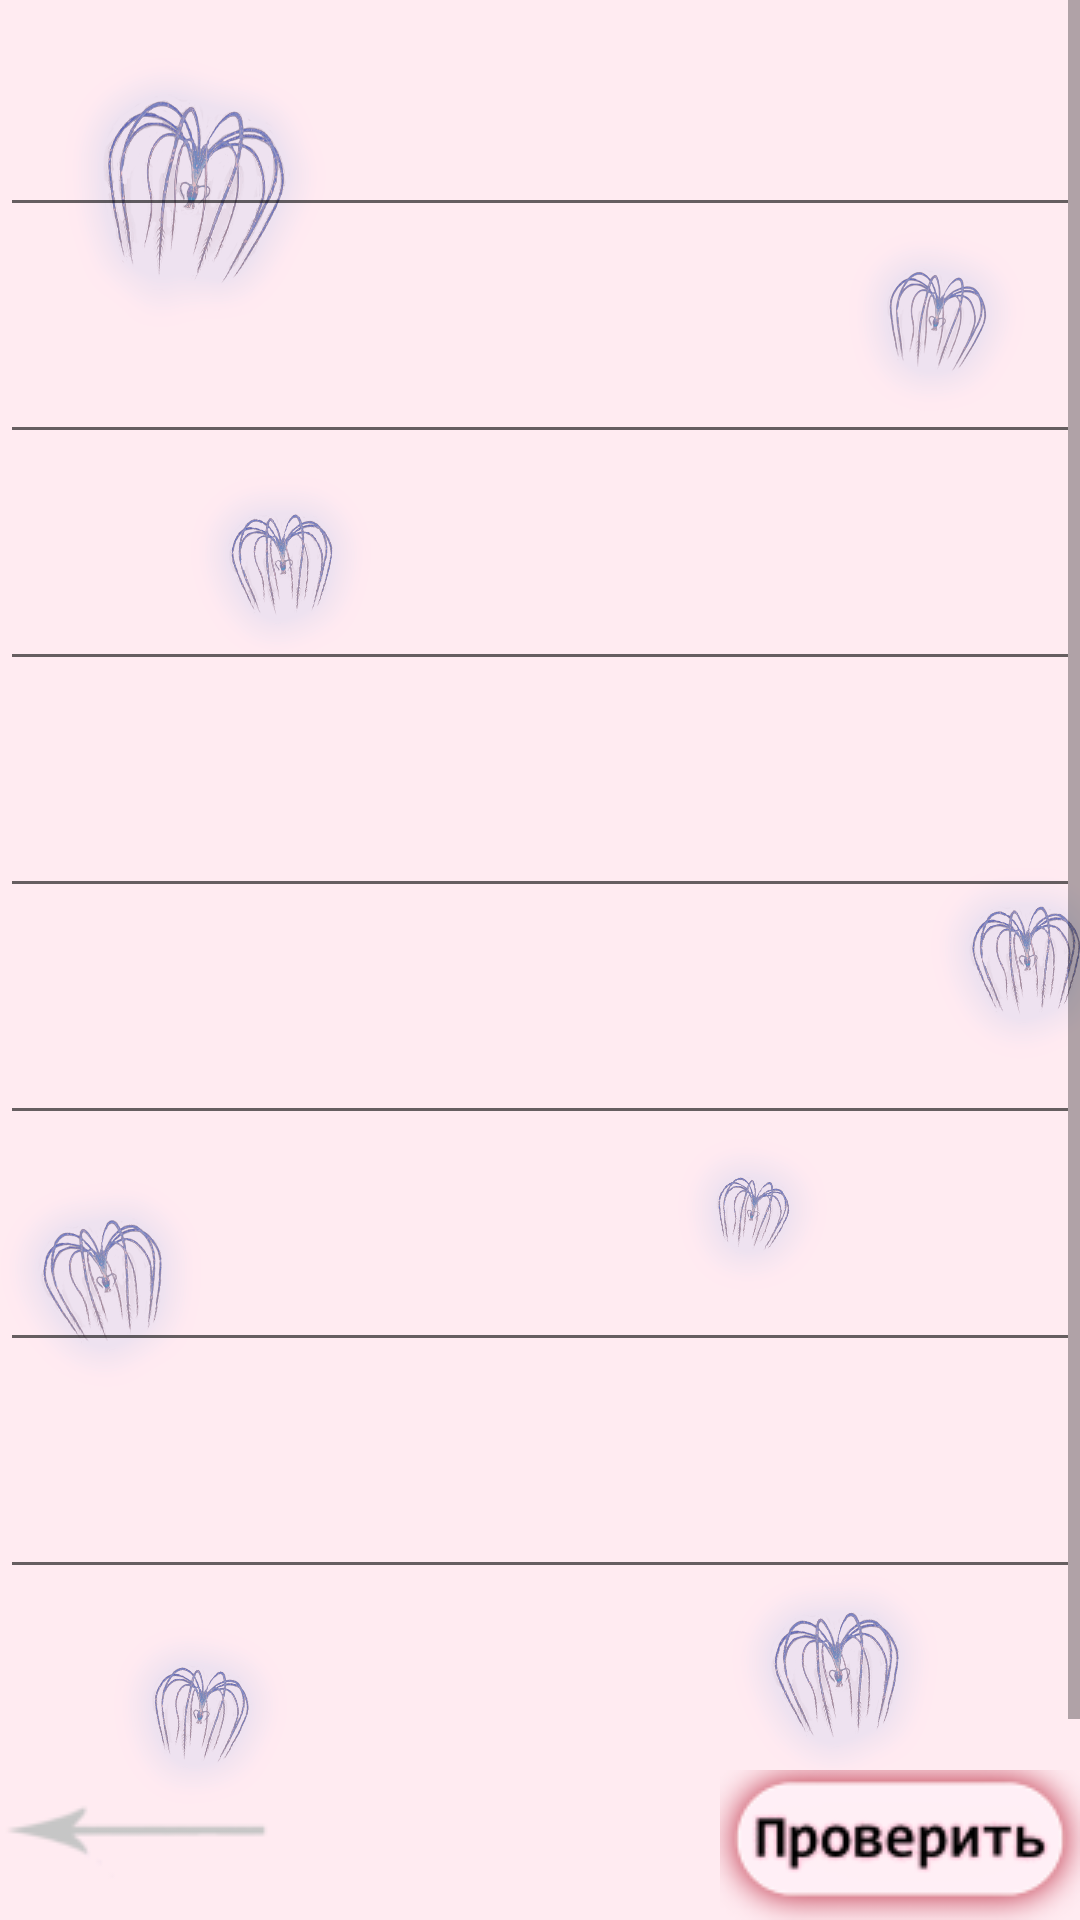

Named icons in this screenshot (1080px×1920px) and their bounding boxes, (x1, y1, x2, y2):
back: (13, 1808, 265, 1853)
